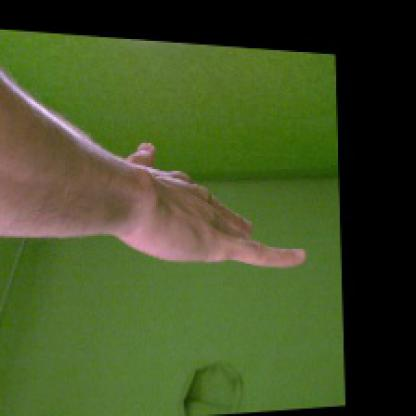Hand: (114, 144, 308, 266)
